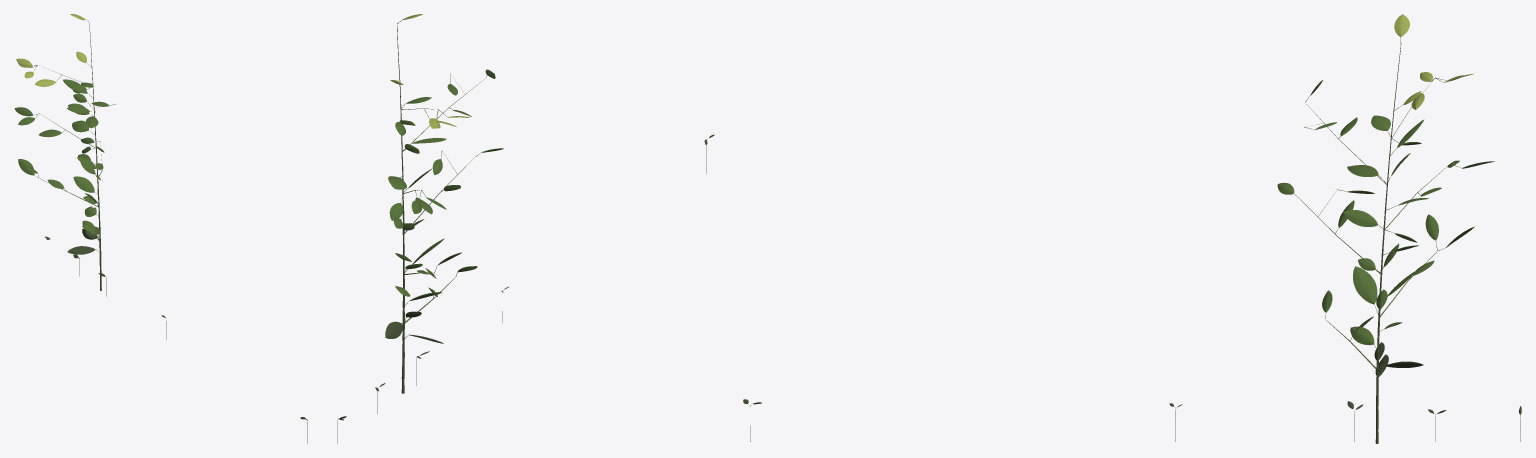
The model's file is afterlight-vegetation.glb.
3 views of the same model, side by side, from view 1: azimuth 30°, elevation 25°; view 2: azimuth 150°, elevation 25°; view 3: azimuth 270°, elevation 25° (orthographic). The views are drawn at different scales.
Size of the model in its own units: 0.3312 by 1.4 by 2.4.
